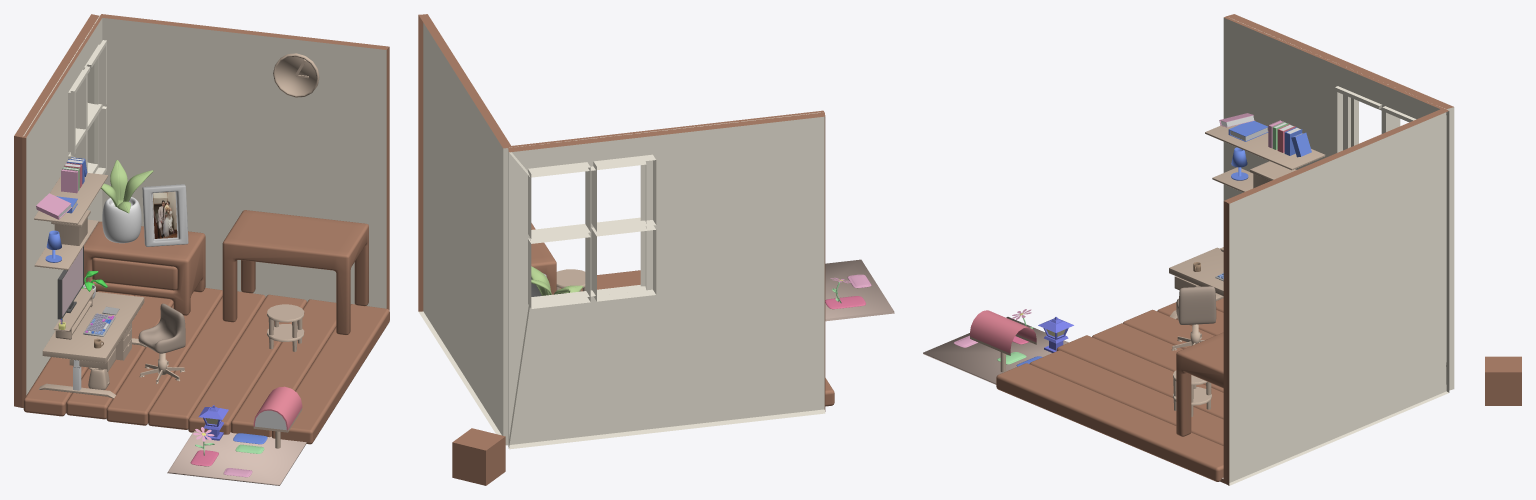
The model's file is gogo2.glb.
3 renders of one model, left to right at view 1: azimuth 30°, elevation 25°; view 2: azimuth 150°, elevation 25°; view 3: azimuth 270°, elevation 25°, orthographic. The views are drawn at different scales.
Visible parts, largest first — view 1: Body, WoodFloor, rightDesk, RightDrawer, Shelves, Desks, MiniFloor, Pic1, TableStuff, Mailbox, Clock, Chair (+6 smaller); view 2: Body, Cube, MiniFloor, WoodFloor, rightDesk, Chair2; view 3: Body, WoodFloor, Shelves, rightDesk, MiniFloor, Mailbox, Cube, Desks, Chair, Chair2, Lamp.
Part boxes in pixels (left/top/right/bottom): Body: left=14, top=14, right=389, bottom=407; WoodFloor: left=23, top=288, right=389, bottom=444; rightDesk: left=222, top=210, right=368, bottom=334; RightDrawer: left=84, top=221, right=205, bottom=315; Shelves: left=34, top=157, right=108, bottom=270; Desks: left=38, top=292, right=146, bottom=398; MiniFloor: left=167, top=431, right=306, bottom=485; Pic1: left=142, top=184, right=188, bottom=246; TableStuff: left=53, top=271, right=119, bottom=339; Mailbox: left=253, top=386, right=302, bottom=448; Clock: left=273, top=53, right=319, bottom=97; Chair: left=138, top=303, right=185, bottom=353; Body: left=418, top=14, right=825, bottom=449; Cube: left=452, top=428, right=505, bottom=485; MiniFloor: left=825, top=259, right=894, bottom=321; WoodFloor: left=560, top=270, right=834, bottom=406; rightDesk: left=531, top=223, right=556, bottom=294; Chair2: left=556, top=269, right=585, bottom=291; Body: left=1220, top=14, right=1454, bottom=485; WoodFloor: left=996, top=298, right=1223, bottom=481; Shelves: left=1205, top=113, right=1325, bottom=192; rightDesk: left=1176, top=332, right=1223, bottom=436; MiniFloor: left=923, top=317, right=1068, bottom=384; Mailbox: left=970, top=310, right=1036, bottom=372; Cube: left=1485, top=356, right=1521, bottom=405; Desks: left=1169, top=247, right=1223, bottom=319; Chair: left=1176, top=286, right=1216, bottom=324; Chair2: left=1173, top=370, right=1211, bottom=416; Lamp: left=1038, top=317, right=1073, bottom=352.
Bounding box in the file's own units: 24.25 × 17.22 × 32.32.
36 materials, 1 textured.
